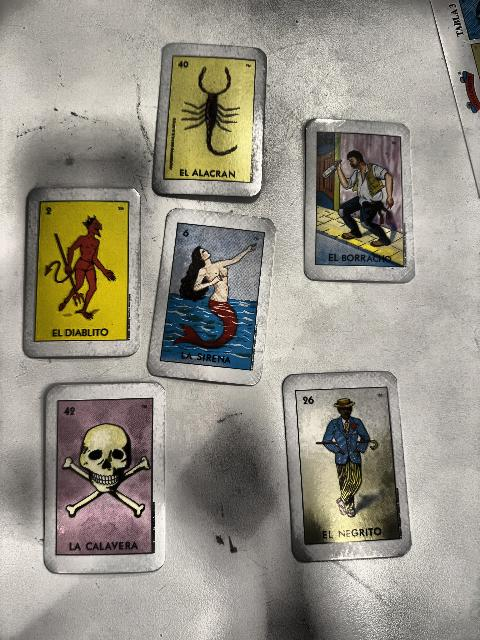El Alacran: (163, 56, 255, 183)
El Borracho: (315, 132, 406, 267)
El Diablito: (35, 202, 127, 341)
El Negrito: (295, 388, 399, 544)
La Calavera: (56, 399, 154, 556)
La Sirena: (160, 223, 264, 372)
